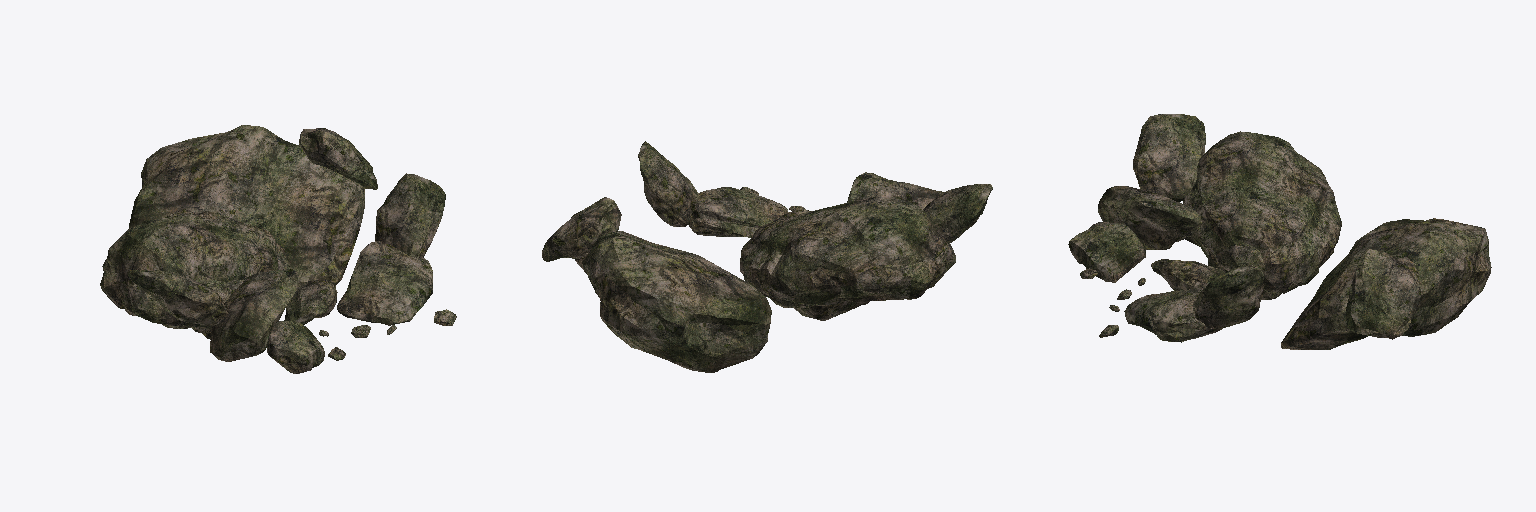
3 views of the same model, side by side, from view 1: azimuth 30°, elevation 25°; view 2: azimuth 150°, elevation 25°; view 3: azimuth 270°, elevation 25° (orthographic).
Visible parts, largest first — view 1: obj00_obj00Shape.004; view 2: obj00_obj00Shape.004; view 3: obj00_obj00Shape.004.
Part boxes in pixels (x1,y1,x2,y2): obj00_obj00Shape.004: (100, 125, 456, 373); obj00_obj00Shape.004: (542, 141, 992, 372); obj00_obj00Shape.004: (1068, 114, 1491, 349).
Size of the model in its own units: 27.03 by 10.18 by 29.19.
Materials: 1 (1 with a texture image).